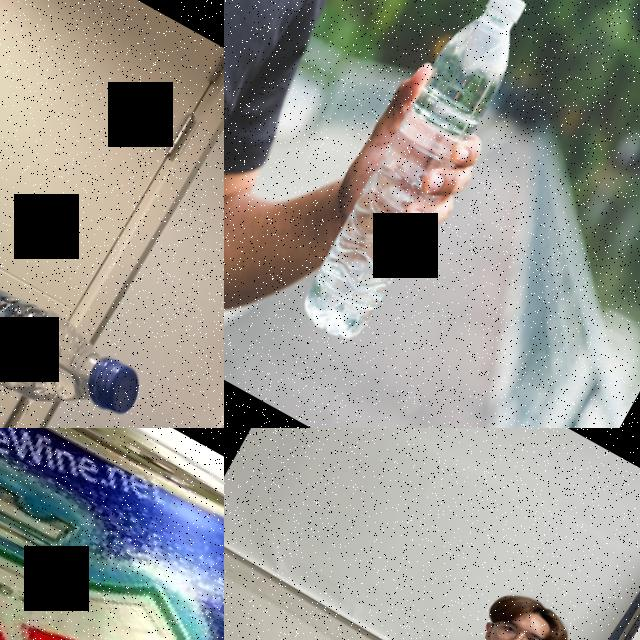bottle: (291, 0, 546, 352), (0, 198, 156, 428)
can: (0, 428, 224, 640)
